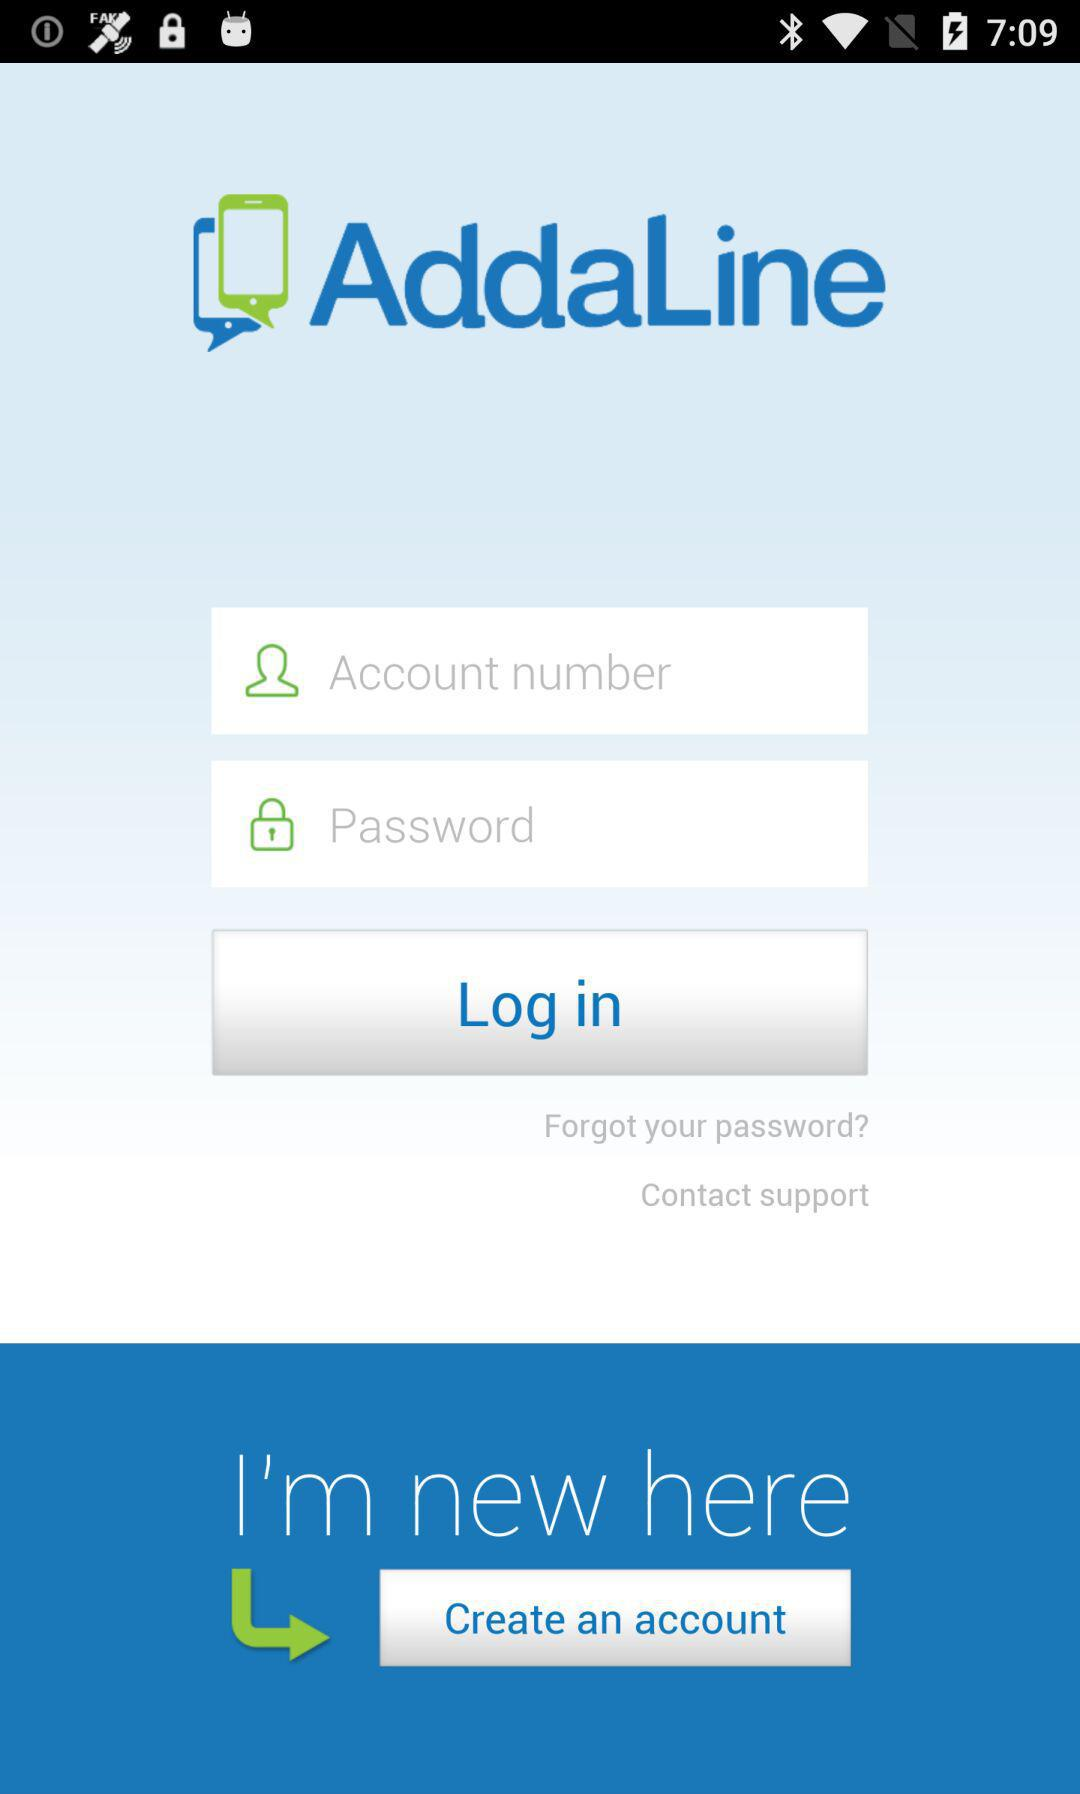EditText: (211, 759, 870, 891), (210, 606, 869, 737)
Icon: (231, 1567, 333, 1665), (245, 643, 300, 698), (250, 797, 295, 853)
Image: (192, 193, 290, 354)
Text: (307, 214, 888, 332), (238, 1447, 851, 1538), (331, 654, 673, 691), (546, 1112, 869, 1146), (332, 806, 533, 844), (642, 1181, 870, 1214)
TextButton: (211, 928, 869, 1076), (379, 1568, 852, 1668)
UpperTaskBar: (1, 1, 1080, 64)
